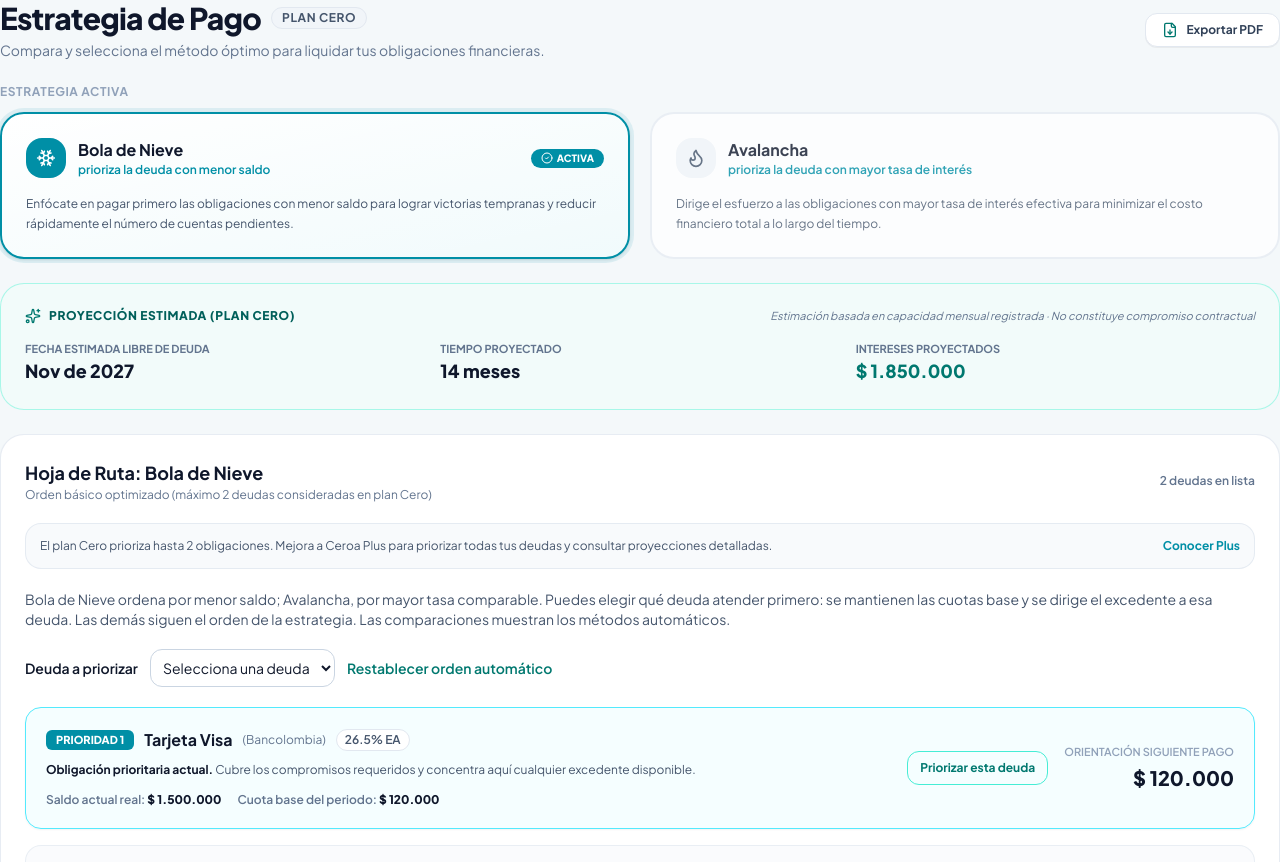
Test case: EP-09 — Estrategias de pago (HU-039, HU-040, HU-041) › HU-039: Cambiar la estrategia activa › TT-039.2: Si el backend falla, conserva la estrategia previa y muestra mensaje de error
The image size is (1280, 862).
Expected: the radio button labelled "Bola de Nieve" is shown, x1=0 y1=112 x2=630 y2=259
Click the radio button labelled "Avalancha" at (965, 186), box x1=650 y1=112 x2=1279 y2=259
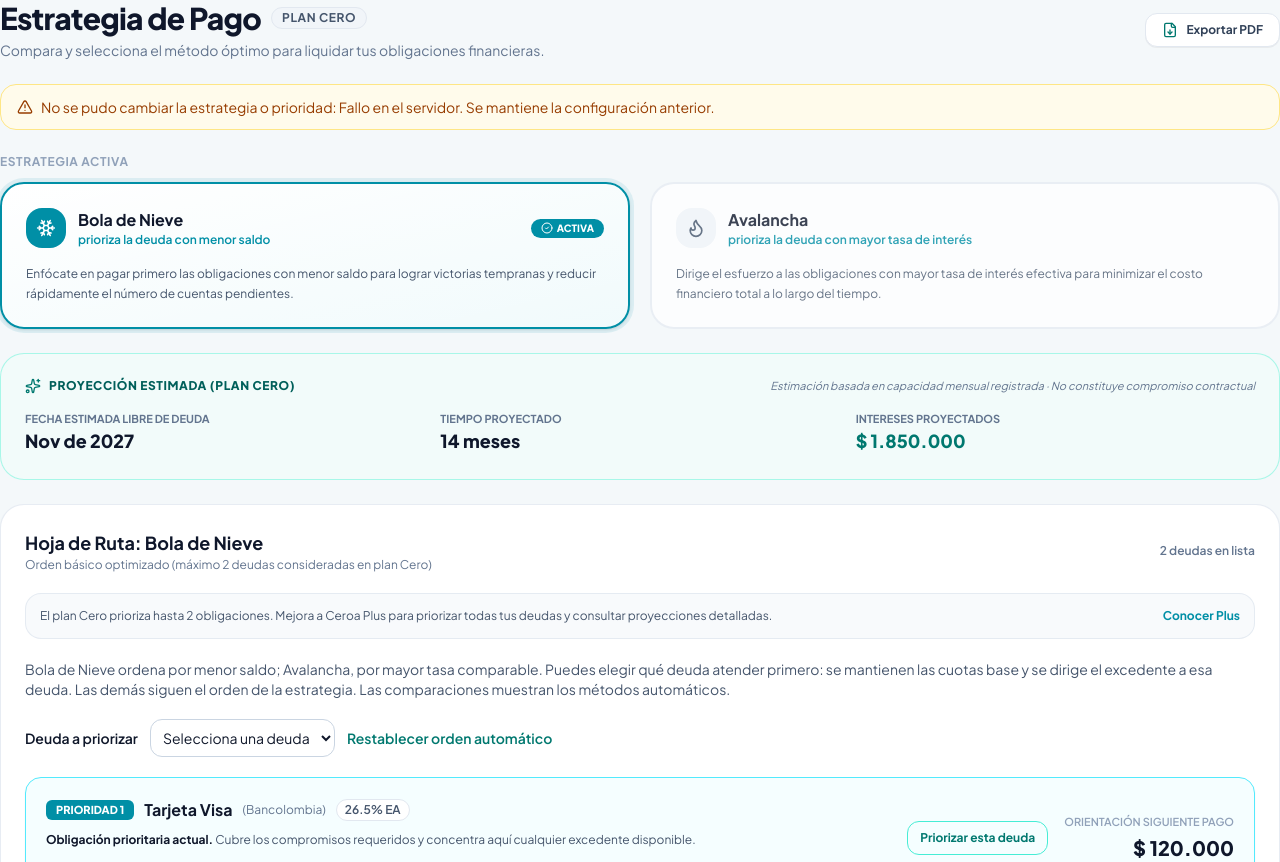
Expected: the text "ACTIVA" is shown, x1=531 y1=218 x2=604 y2=238
Expected: the message is shown, x1=0 y1=84 x2=1279 y2=130
Expected: the message shows "No se pudo cambiar la estrategia", x1=41 y1=98 x2=339 y2=116
